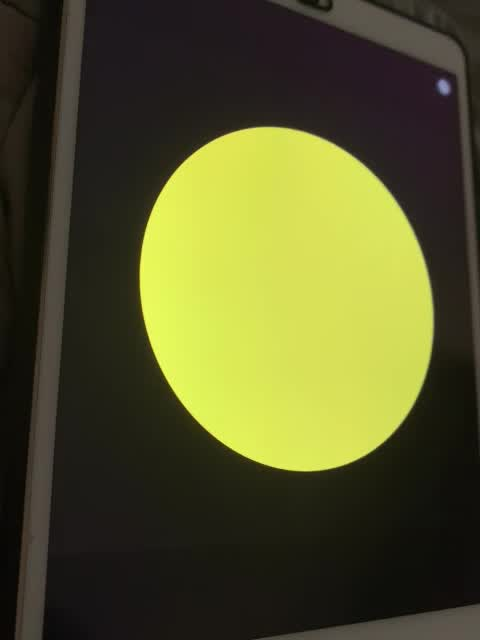left: (135, 112, 443, 478)
